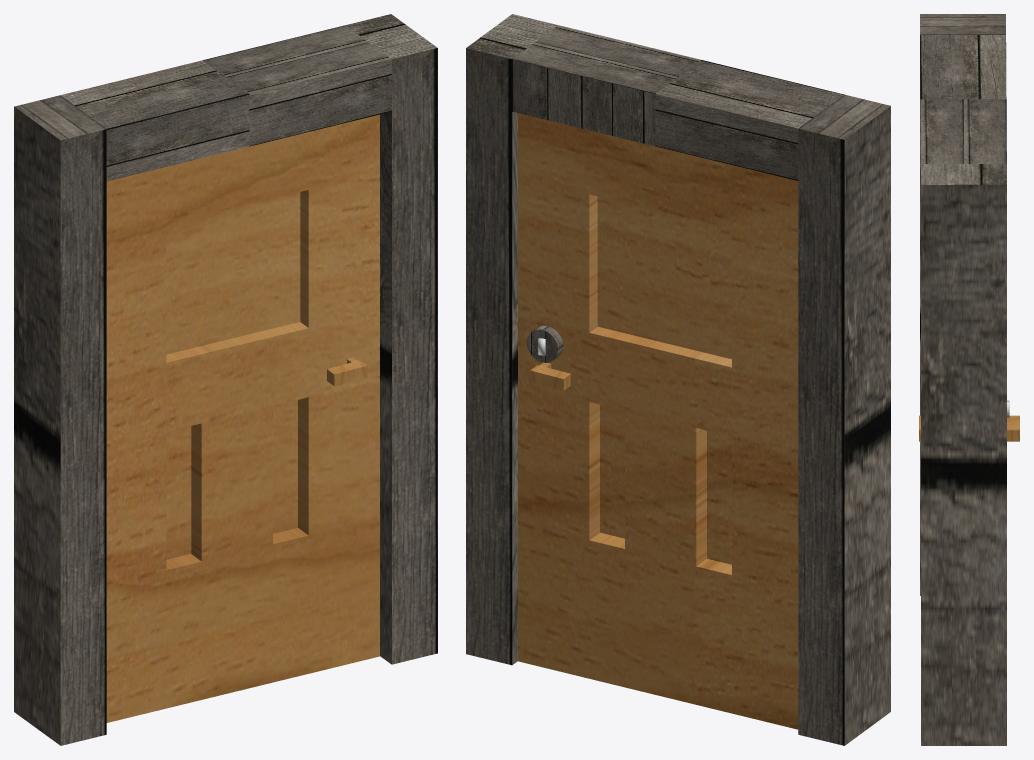
File: Door.fbx
3 renders of one model, left to right at view 1: azimuth 30°, elevation 25°; view 2: azimuth 150°, elevation 25°; view 3: azimuth 270°, elevation 25°, orthographic. The views are drawn at different scales.
Visible parts, largest first — view 1: Door, DoorFrame; view 2: Door, DoorFrame, ClapHolder; view 3: DoorFrame, Door.
Boxes of the visible parts, bbox=[...] form: Door: bbox=[106, 114, 379, 722]; DoorFrame: bbox=[14, 14, 437, 745]; Door: bbox=[518, 113, 798, 729]; DoorFrame: bbox=[466, 14, 890, 745]; ClapHolder: bbox=[526, 325, 563, 362]; DoorFrame: bbox=[920, 14, 1006, 745]; Door: bbox=[919, 415, 1019, 441].
Size of the model in its own units: 41.31 by 63.27 by 10.31.
2 materials, 2 textured.
